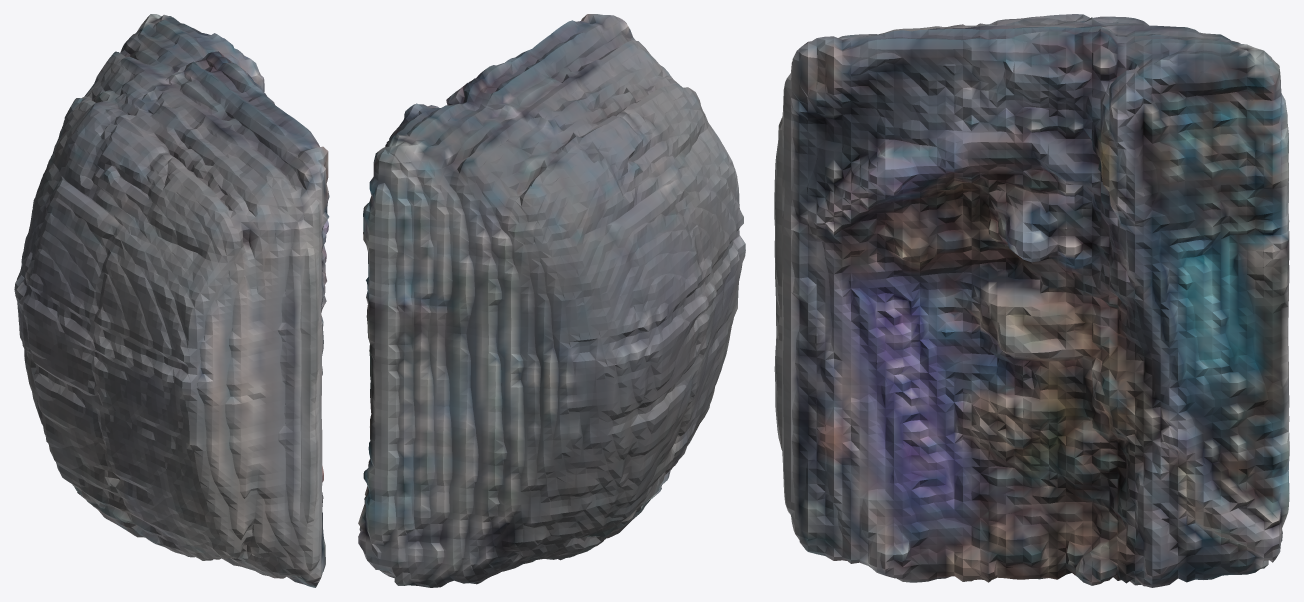
File: building-arts-studio.glb
The picture shows the model from 3 angles, left to right: view 1: azimuth 30°, elevation 25°; view 2: azimuth 150°, elevation 25°; view 3: azimuth 270°, elevation 25°; orthographic projection. The views are drawn at different scales.
Visible parts, largest first — view 1: world; view 2: world; view 3: world.
Part boxes in pixels (left/top/right/bottom): world: left=14, top=14, right=329, bottom=587; world: left=358, top=14, right=745, bottom=587; world: left=774, top=14, right=1289, bottom=587.
Bounding box in the file's own units: 0.5463 × 0.9706 × 0.8206.
